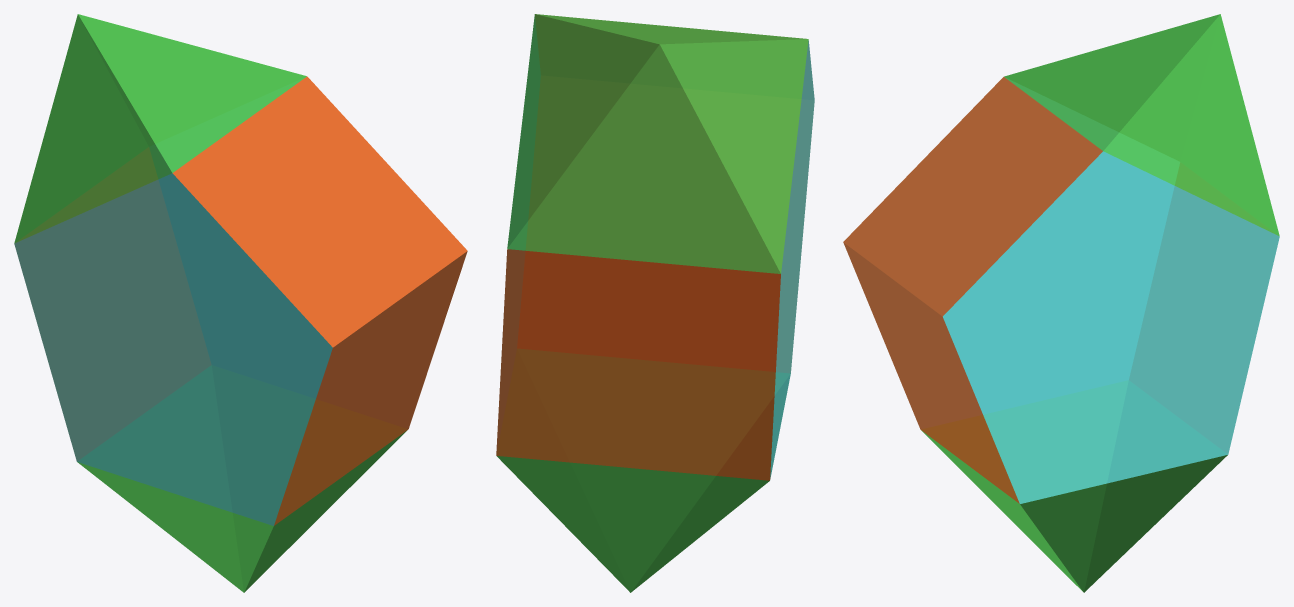
The model's file is j53_biaugmented_pentagonal_prism.obj.
3 renders of one model, left to right at view 1: azimuth 30°, elevation 25°; view 2: azimuth 150°, elevation 25°; view 3: azimuth 270°, elevation 25°, orthographic. The views are drawn at different scales.
Bounding box in the file's own units: 1.51 × 2.39 × 1.78.
